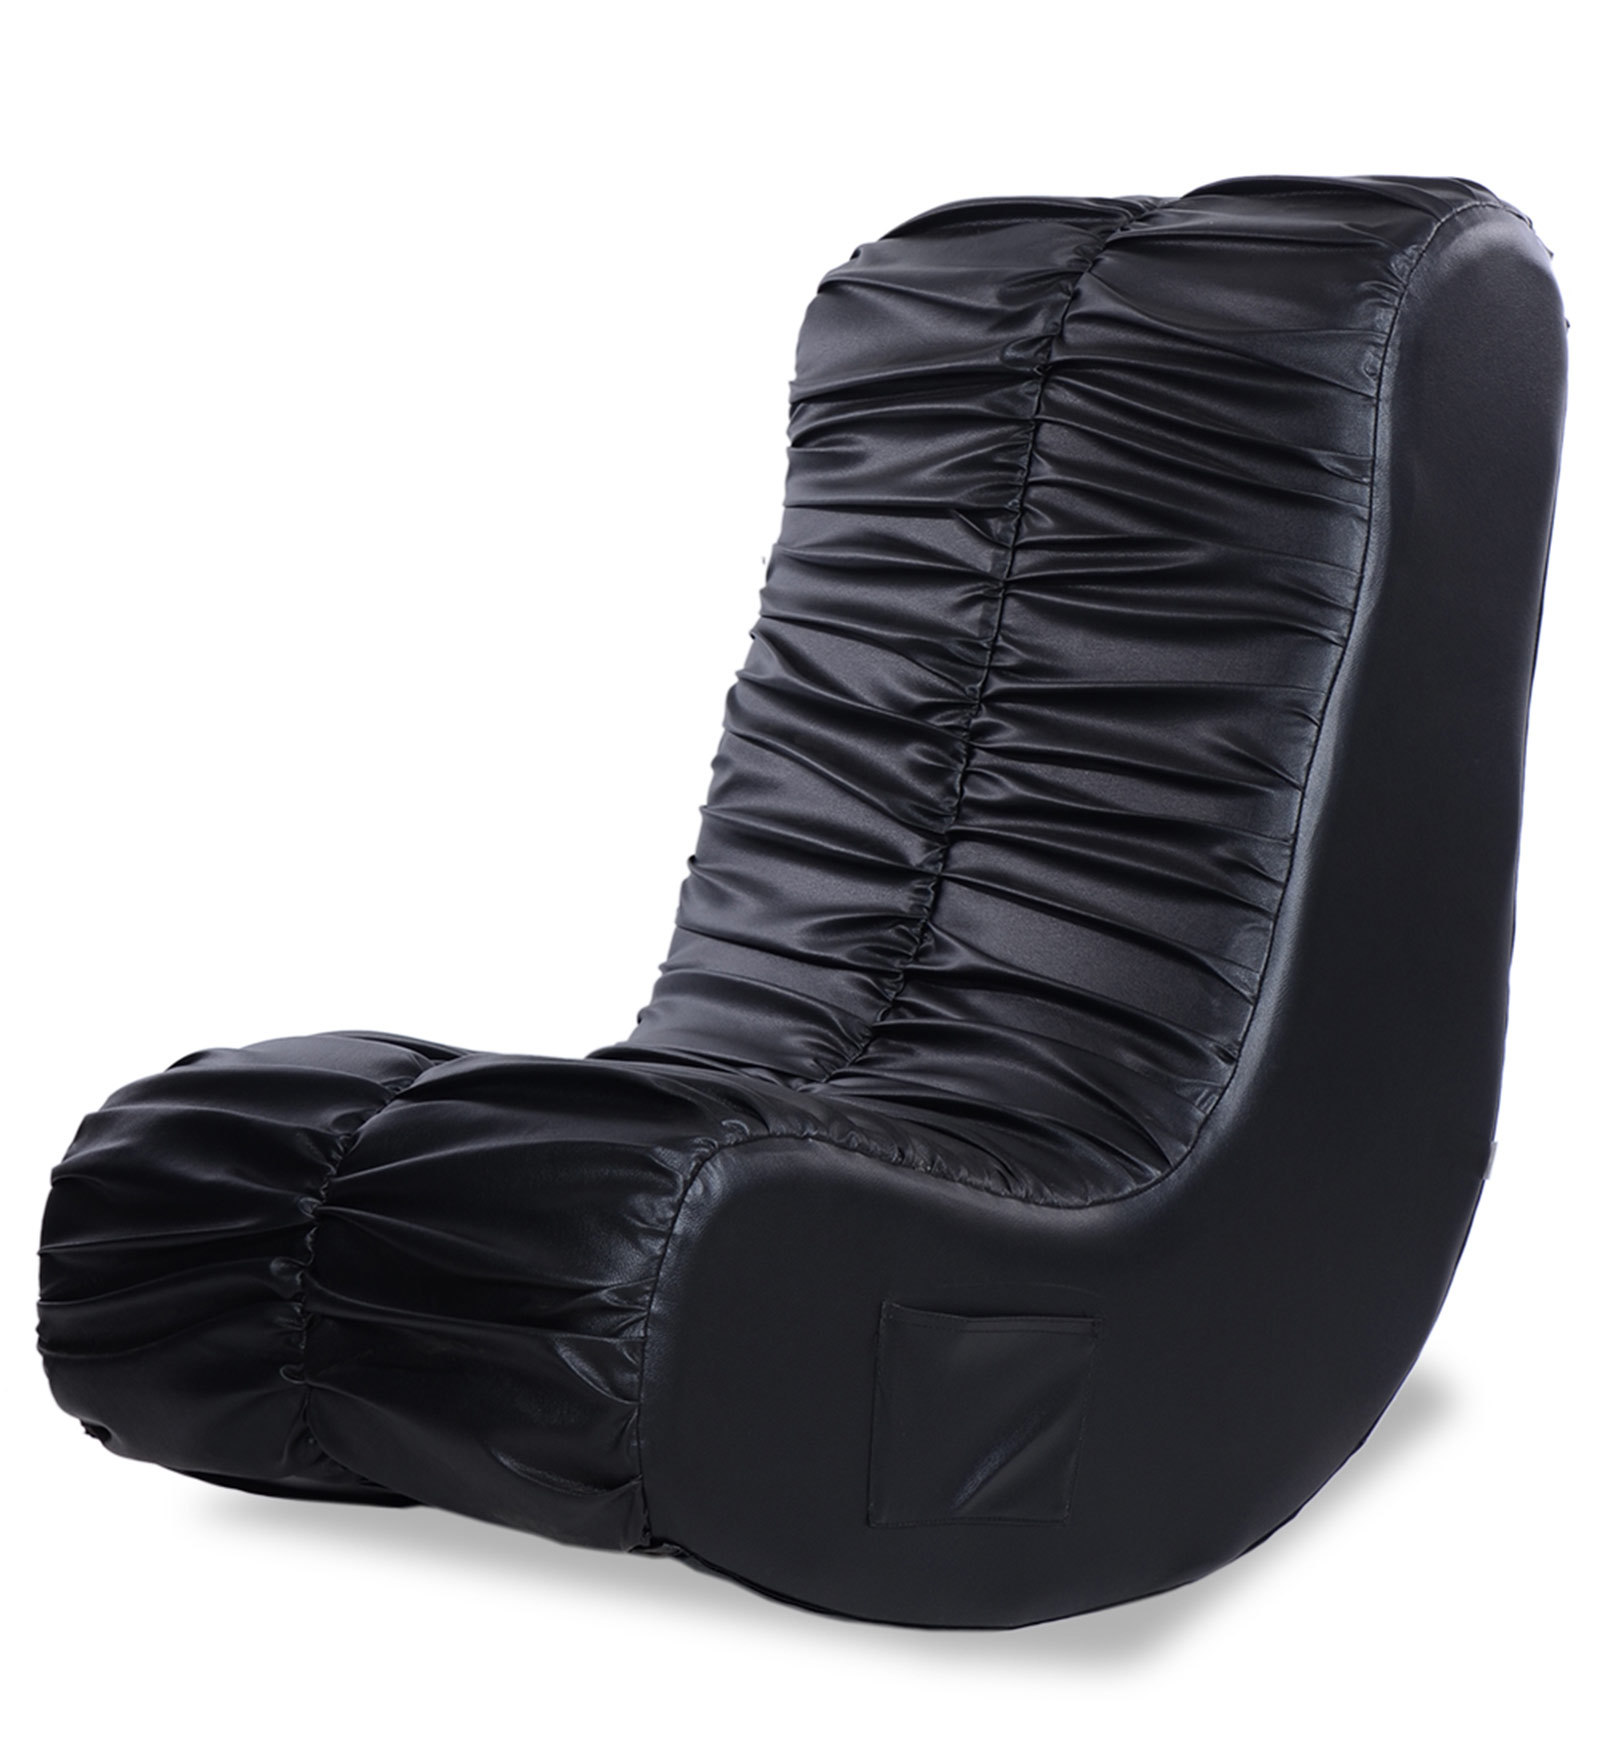Low Seat Rocking Chair in Black Leatherette by Durian: (34, 117, 1580, 1634)
